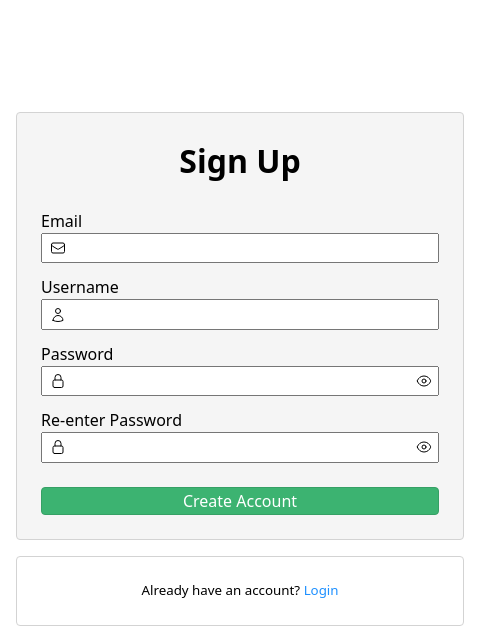
SignupPage › should display errors when signup button clicked and inputs invalid (email=true, user=true, pass=true, passMatch=false)
In the field labelled "Email": (240, 248) [41,233,439,263], type "email"
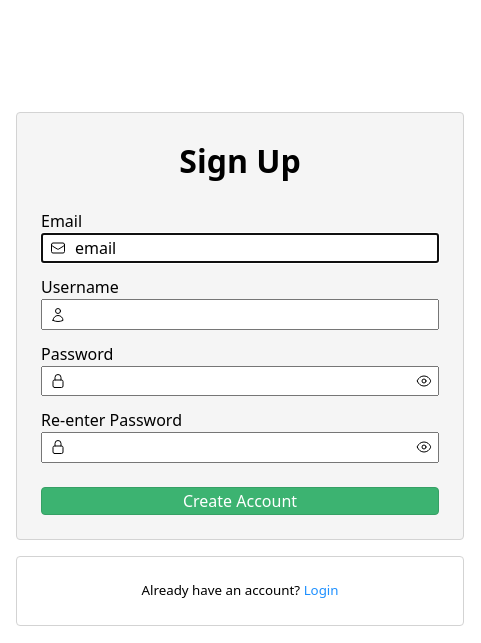
In the field labelled "Username": (240, 315) [41,299,439,330], type "user"
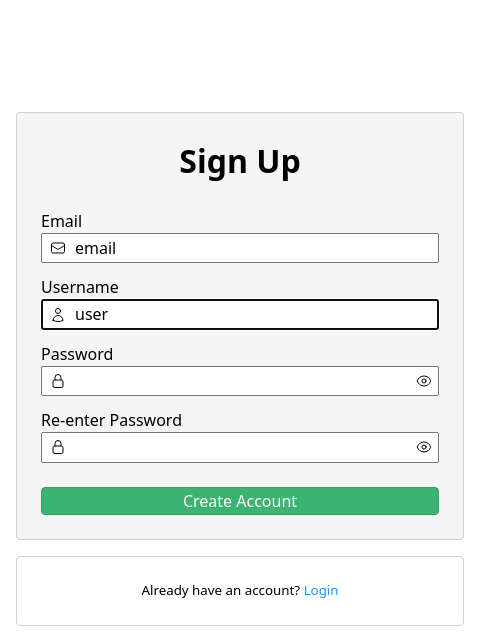
In the password field labelled "Password": (240, 381) [41,366,439,396], type "pass"
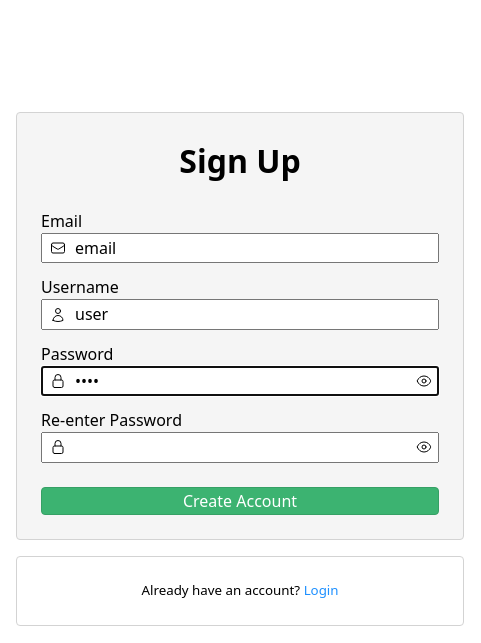
In the password field labelled "Re-enter Password": (240, 447) [41,432,439,463], type "different-pass"
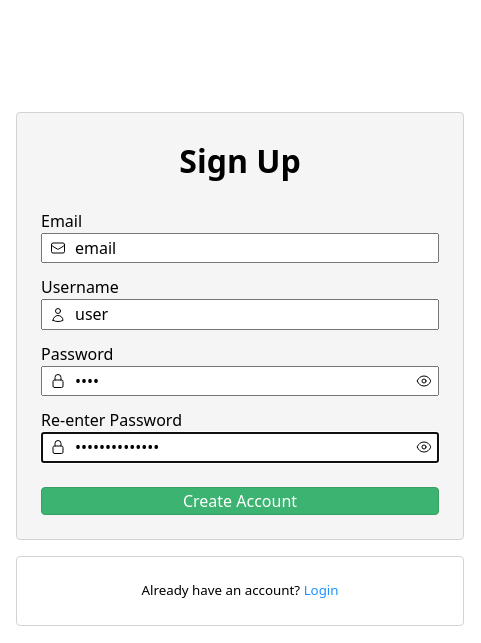
Click the button "Create Account": (240, 501) [41,487,439,515]
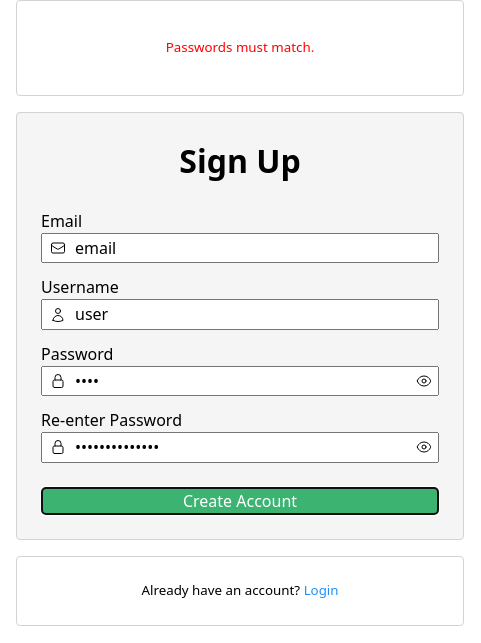
Expected: the text "Passwords must match." is shown once, [166,38,314,58]
